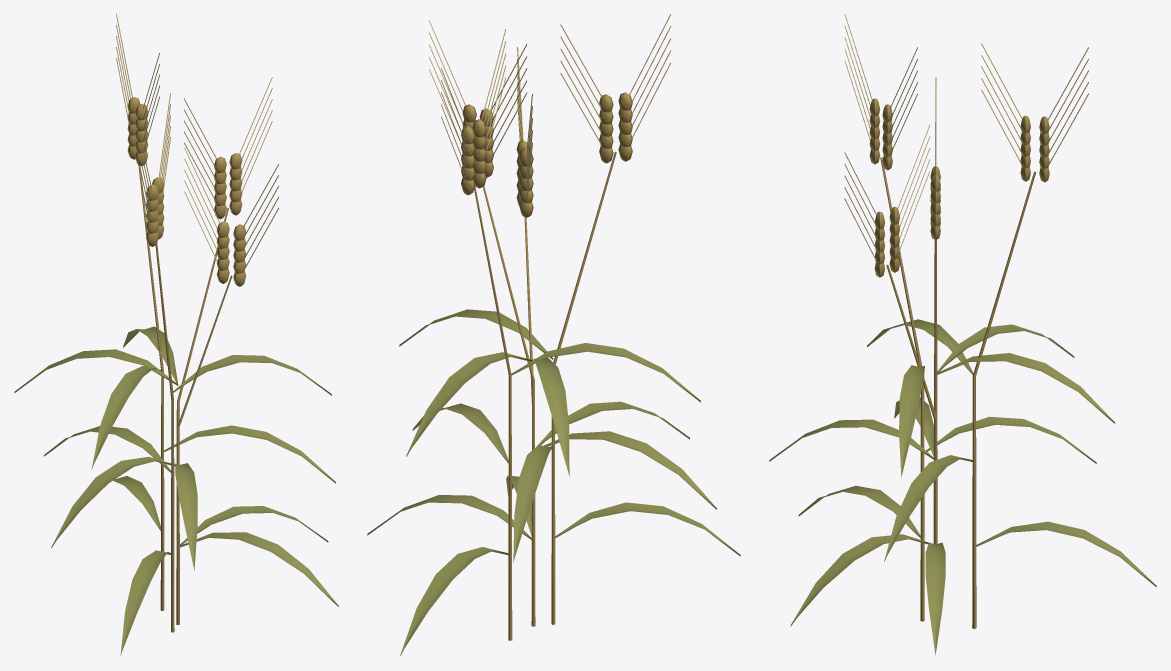
The model's file is cebada.glb.
The picture shows the model from 3 angles, left to right: view 1: azimuth 30°, elevation 25°; view 2: azimuth 150°, elevation 25°; view 3: azimuth 270°, elevation 25°; orthographic projection. The views are drawn at different scales.
Parts seen in each view (by area): view 1: cebada; view 2: cebada; view 3: cebada.
Part boxes in pixels (left/top/right/bottom): cebada: left=14, top=14, right=338, bottom=655; cebada: left=367, top=14, right=740, bottom=656; cebada: left=769, top=14, right=1156, bottom=655.
Size of the model in its own units: 0.6515 by 1.16 by 0.6986.
